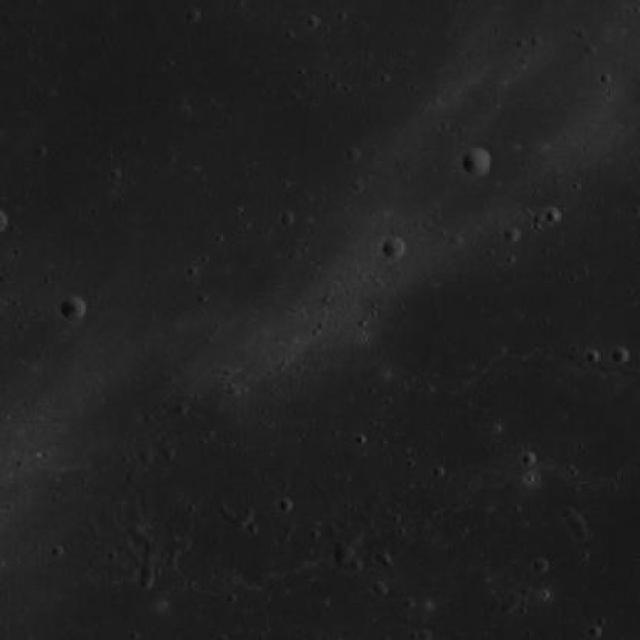crater: (461, 150, 494, 182), (63, 294, 88, 320), (383, 240, 408, 263), (613, 350, 630, 367), (504, 228, 522, 244), (142, 556, 158, 572), (568, 516, 584, 532), (341, 549, 356, 565)
